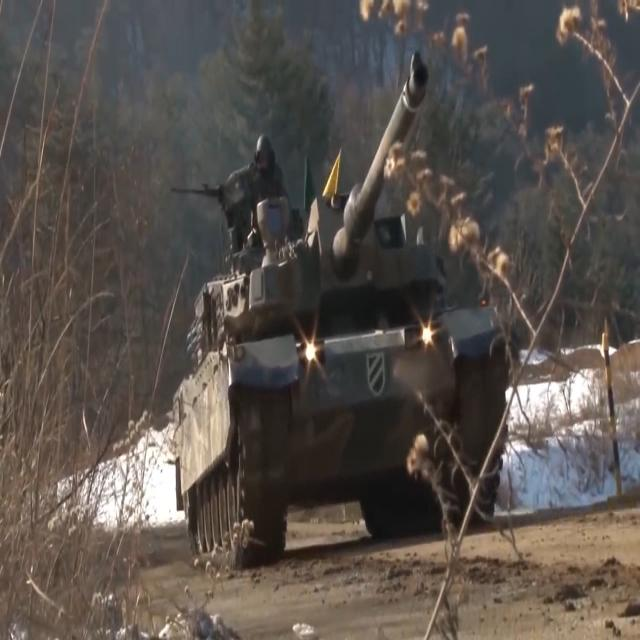korea tank: (172, 52, 510, 570)
